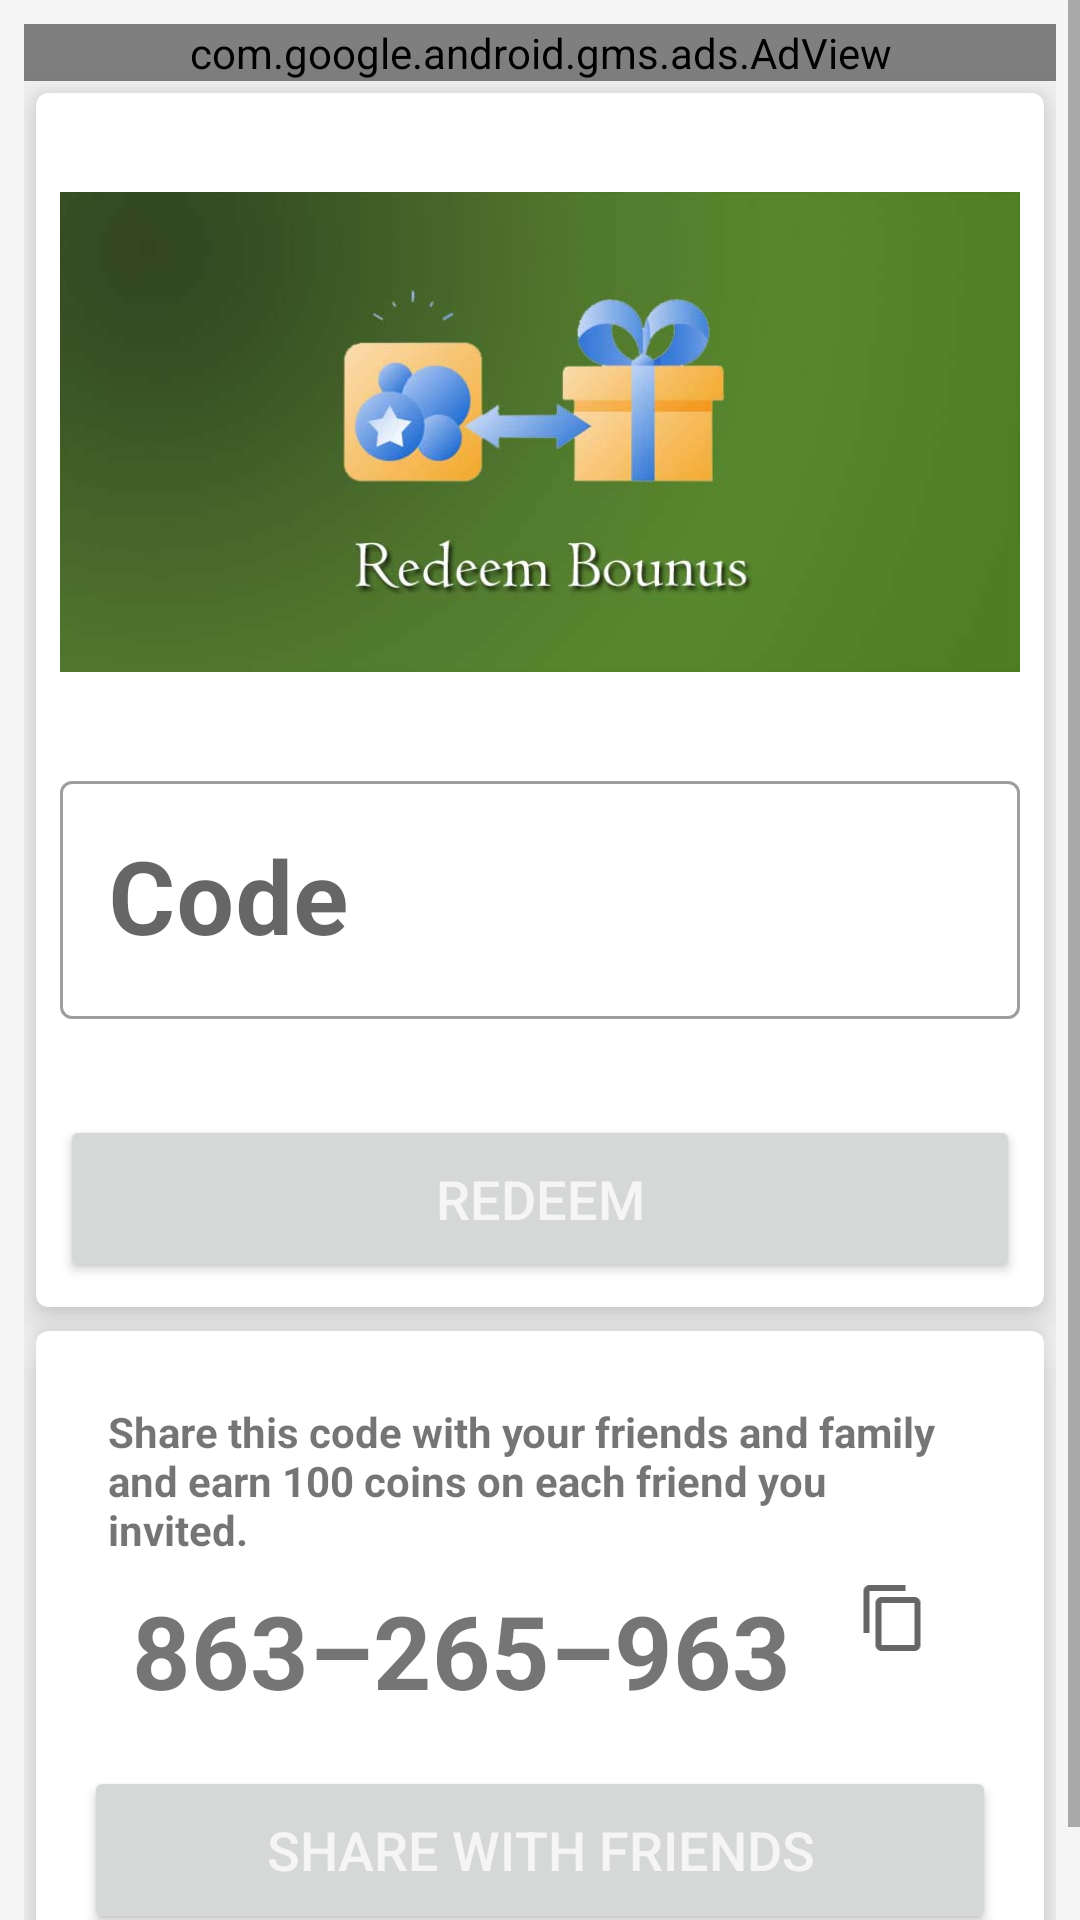

Screen size 1080*1920. Icon name, then its box in pixels as (x1, y1, x2, y2):
Copy: (863, 1585, 921, 1651)
